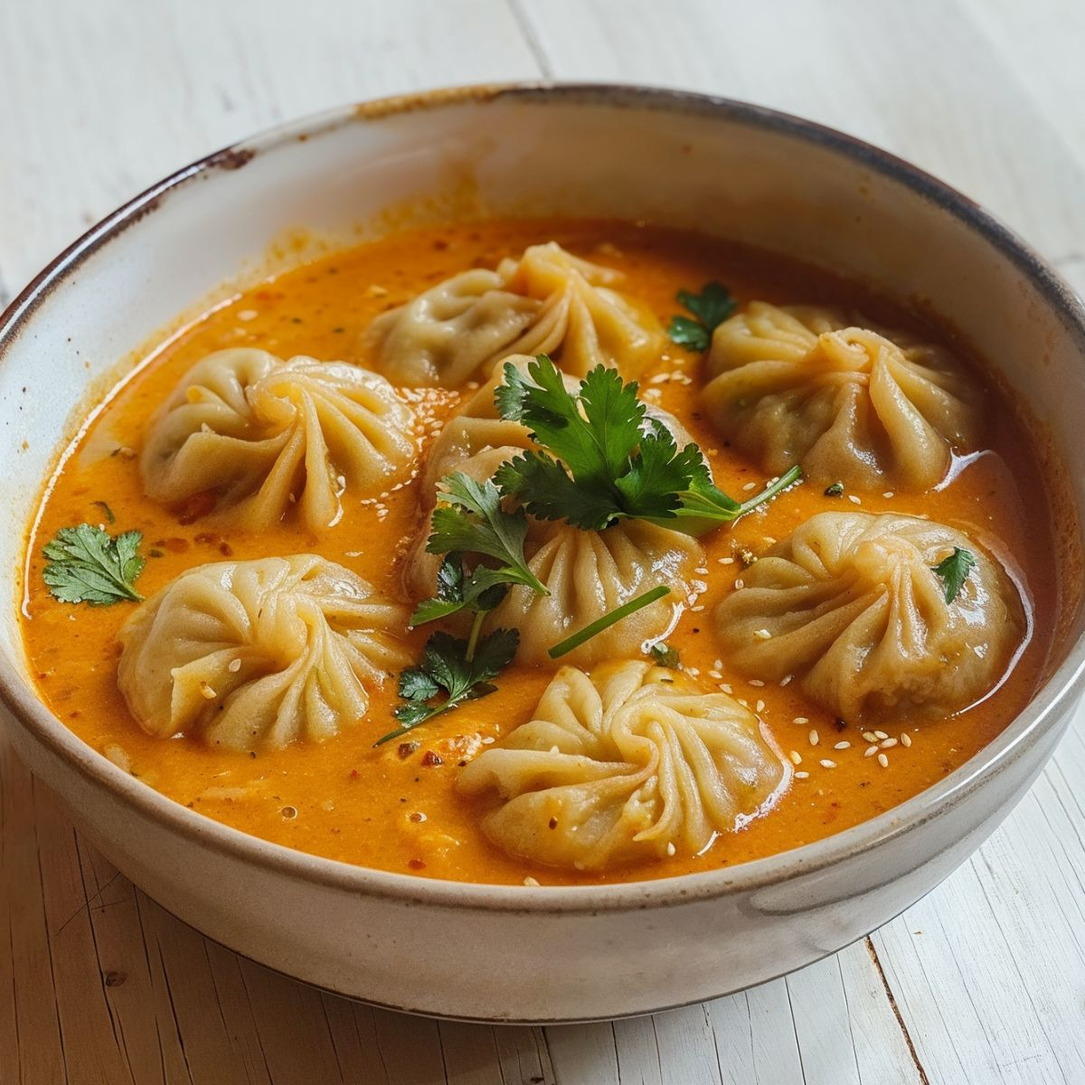momo: (452, 658, 787, 863), (728, 511, 1038, 726), (698, 283, 986, 500), (425, 450, 705, 649), (111, 547, 387, 746), (115, 350, 425, 527), (384, 253, 651, 400)
